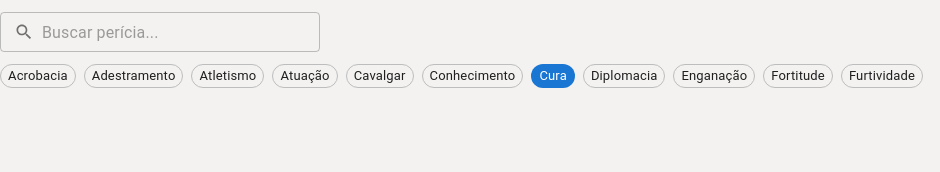
SkillChipSelector › mantém perícias selecionadas visíveis mesmo fora do filtro
Type "diplo" into the field with placeholder "Buscar perícia..." at (181, 32), box [42,12,320,52]
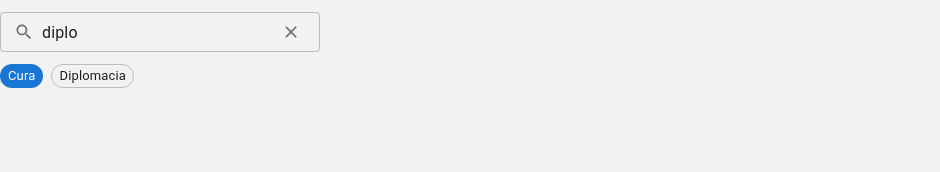
Expected: the text "Diplomacia" is shown, [60,68,126,83]
Now the button "Acrobacia" is gone
